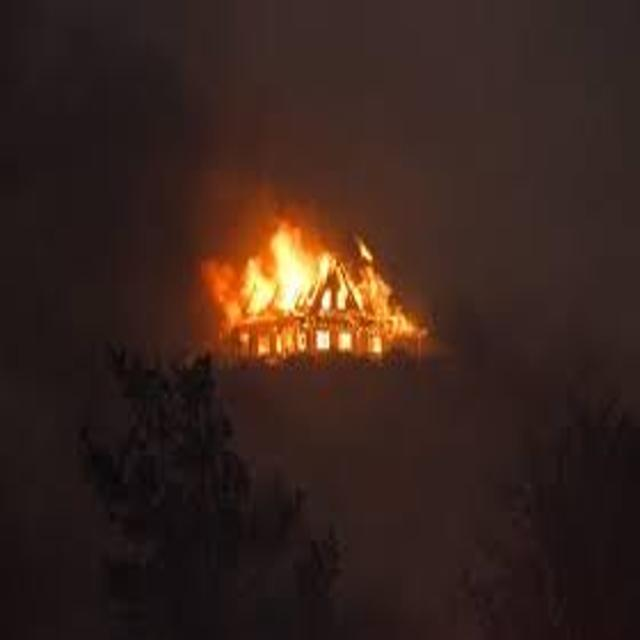Fire: (205, 218, 448, 384)
Smoke: (357, 2, 640, 375), (0, 0, 353, 218)
